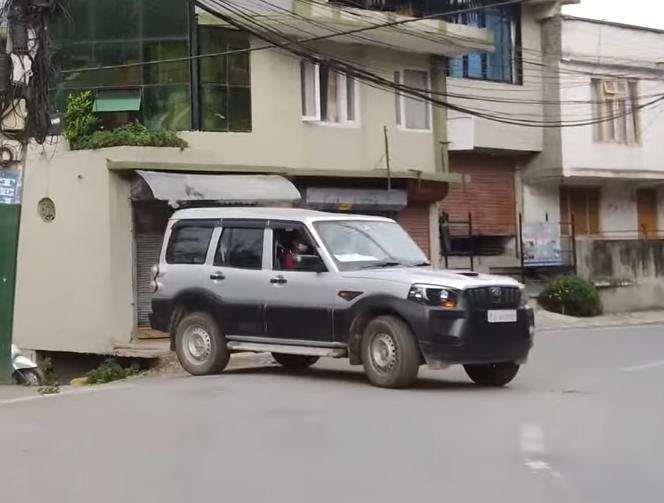SUV: (148, 203, 537, 394)
